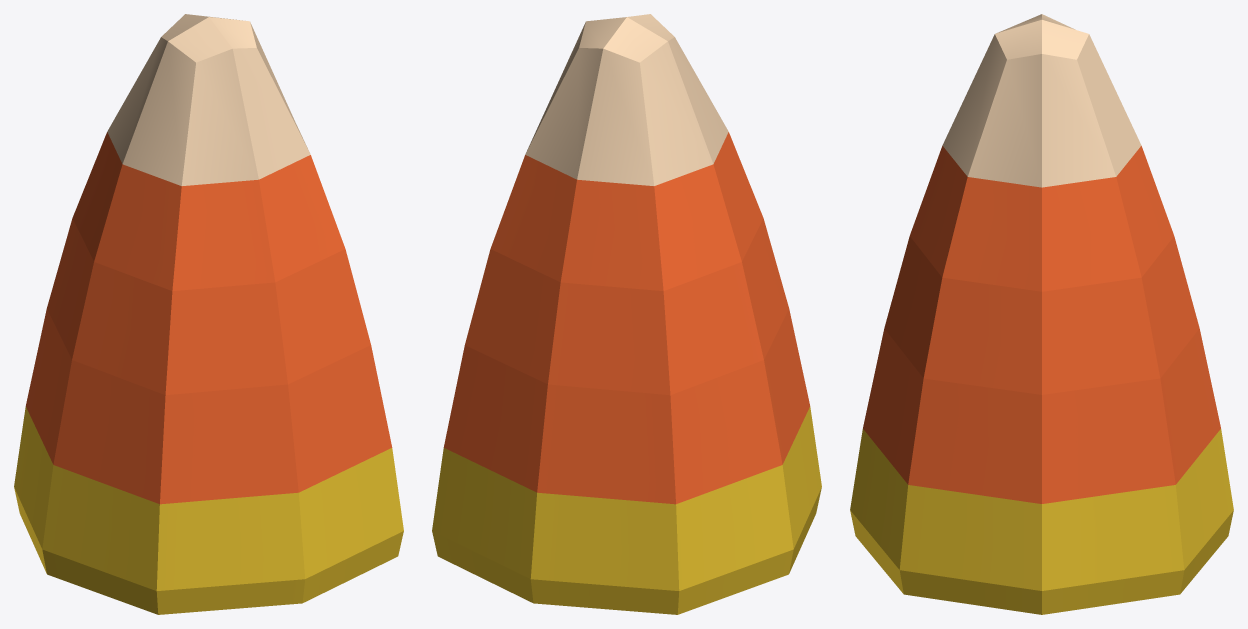
File: CandyCorn.glb
The picture shows the model from 3 angles, left to right: view 1: azimuth 30°, elevation 25°; view 2: azimuth 150°, elevation 25°; view 3: azimuth 270°, elevation 25°; orthographic projection.
Parts seen in each view (by area): view 1: CandyCorn; view 2: CandyCorn; view 3: CandyCorn.
Part boxes in pixels (left/top/right/bottom): CandyCorn: left=14, top=14, right=403, bottom=614; CandyCorn: left=432, top=14, right=821, bottom=614; CandyCorn: left=850, top=14, right=1233, bottom=614.
Bounding box in the file's own units: 29.43 × 43.69 × 29.43.
